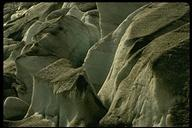rock: (6, 4, 184, 126)
